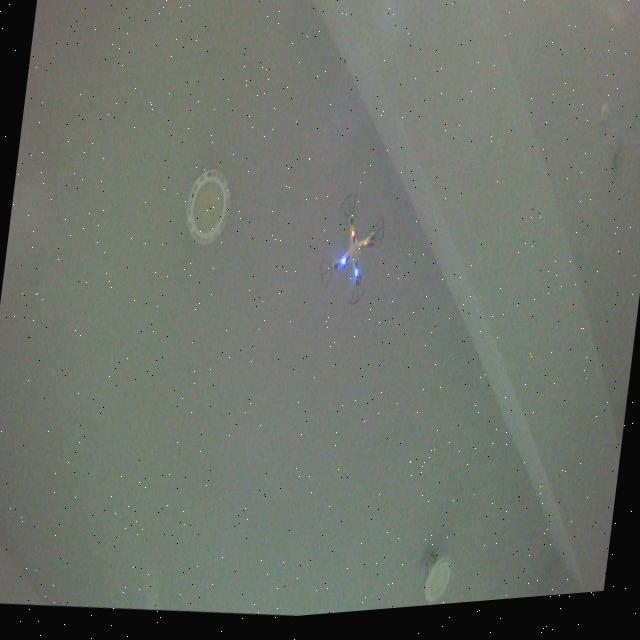drone: (314, 191, 389, 319)
